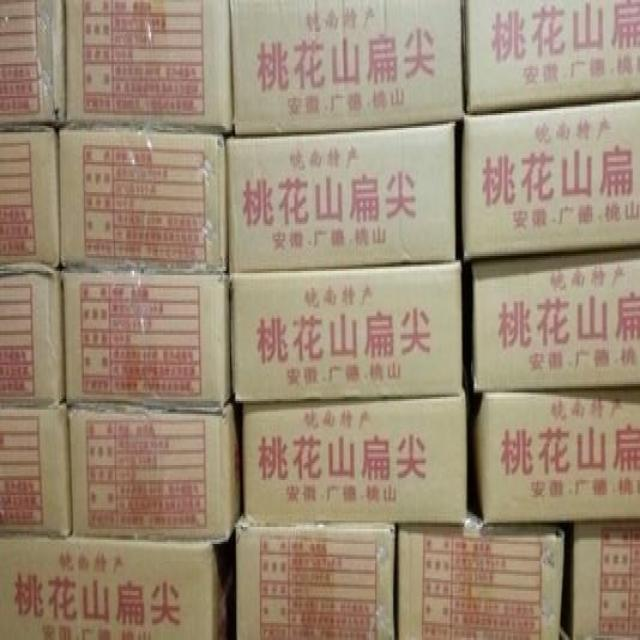box: (225, 124, 457, 271), (229, 262, 463, 403), (229, 0, 464, 134), (243, 393, 467, 525), (463, 100, 640, 260), (60, 128, 227, 275), (67, 401, 241, 540), (473, 250, 640, 393), (0, 538, 228, 640), (471, 388, 640, 525), (64, 271, 234, 405), (65, 0, 235, 132), (466, 2, 640, 113), (398, 525, 563, 640), (237, 521, 394, 640), (0, 401, 72, 540), (0, 269, 66, 405), (0, 128, 60, 267), (573, 521, 640, 640)
